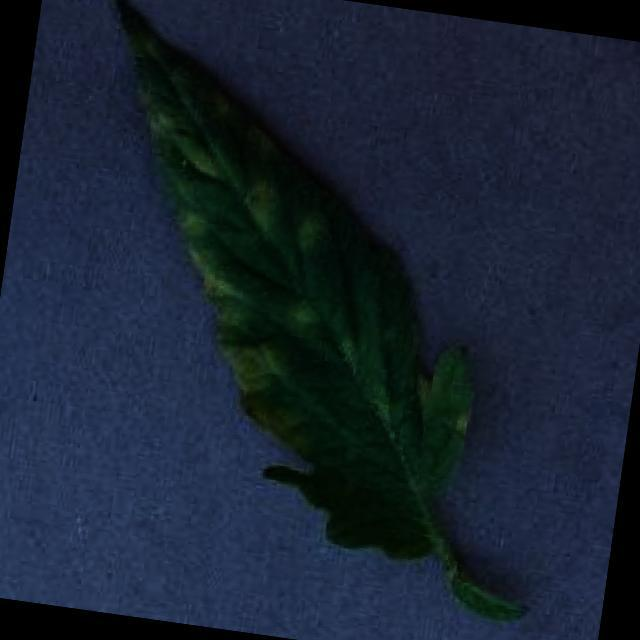Tomato mold leaf: (45, 0, 525, 562)
